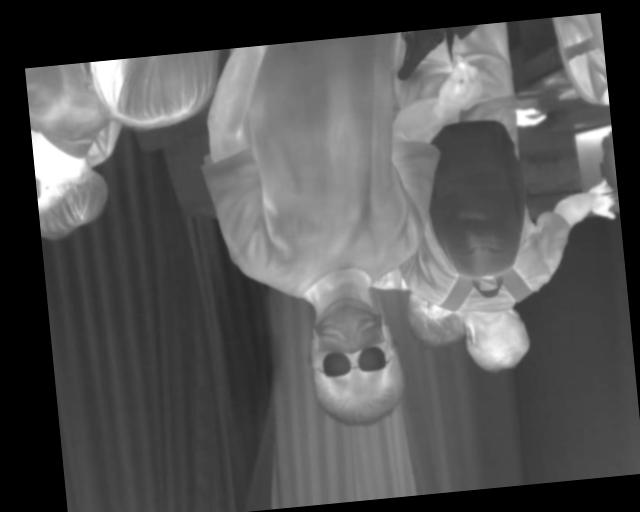face: (305, 291, 408, 430)
